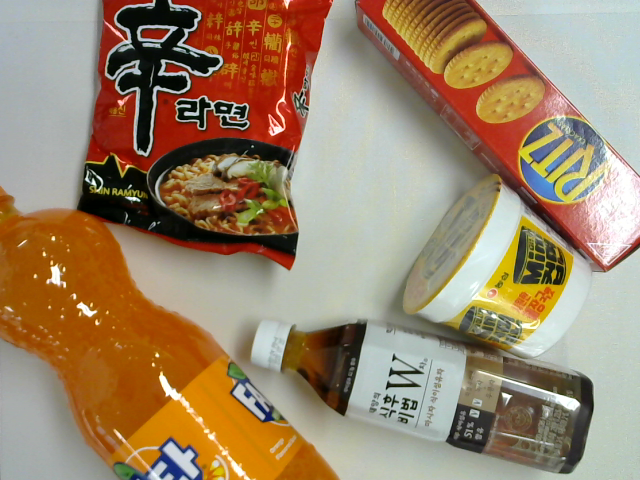Hejangmini: (403, 173, 593, 359)
Hwanta_Orange_1.5L: (2, 186, 340, 480)
Post-meal_recipe_W_tea_500ml: (251, 317, 594, 475)
Ritz_Cracker: (353, 1, 640, 272)
Sinramen: (76, 1, 333, 272)
